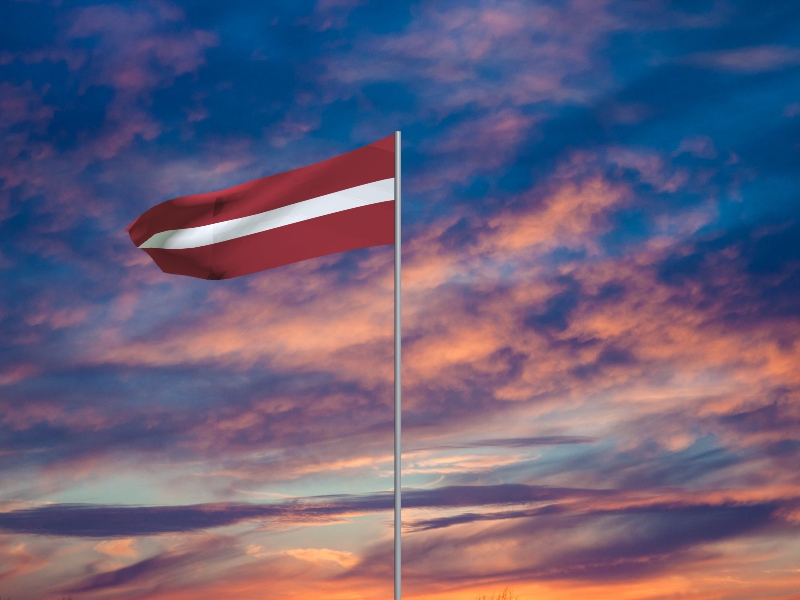lv: (124, 135, 395, 282)
